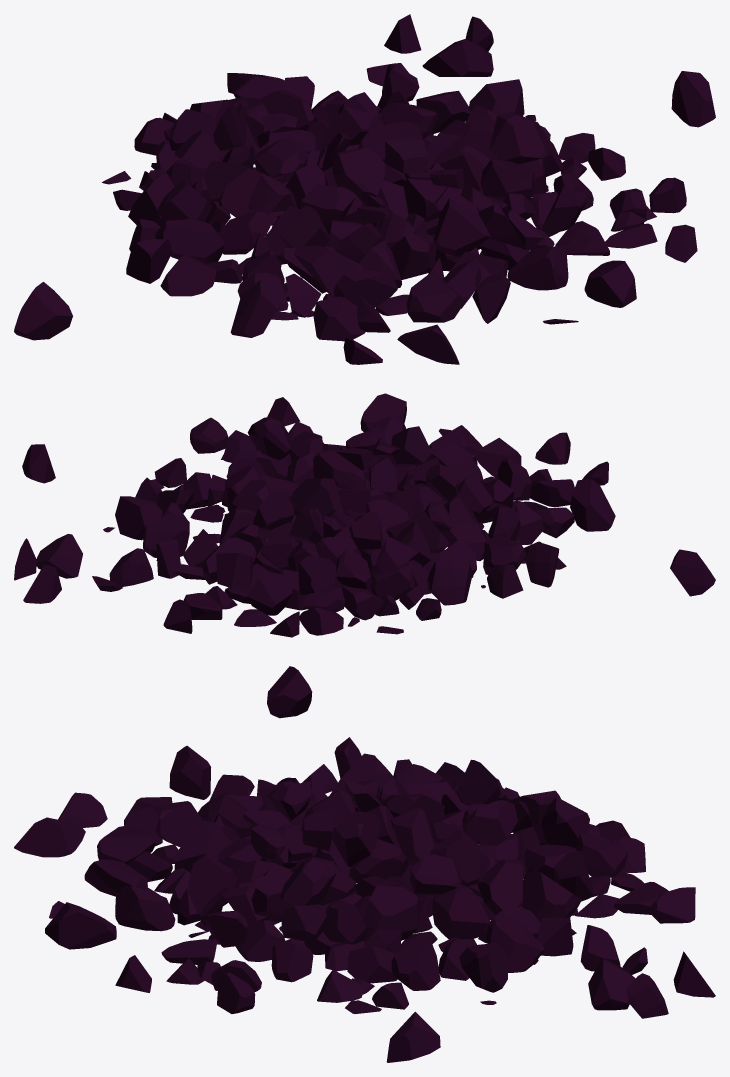
The model's file is pile_of_coal.dae.
3 renders of one model, top to bottom at view 1: azimuth 30°, elevation 25°; view 2: azimuth 150°, elevation 25°; view 3: azimuth 270°, elevation 25°, orthographic. The views are drawn at different scales.
Visible parts, largest first — view 1: Sphere_cell.082; view 2: Sphere_cell.082; view 3: Sphere_cell.082.
Part boxes in pixels (<box>): Sphere_cell.082: <box>14,14,715,364</box>; Sphere_cell.082: <box>14,393,715,637</box>; Sphere_cell.082: <box>14,666,715,1062</box>.
Bounding box in the file's own units: 14.91 × 11.95 × 1.83.
